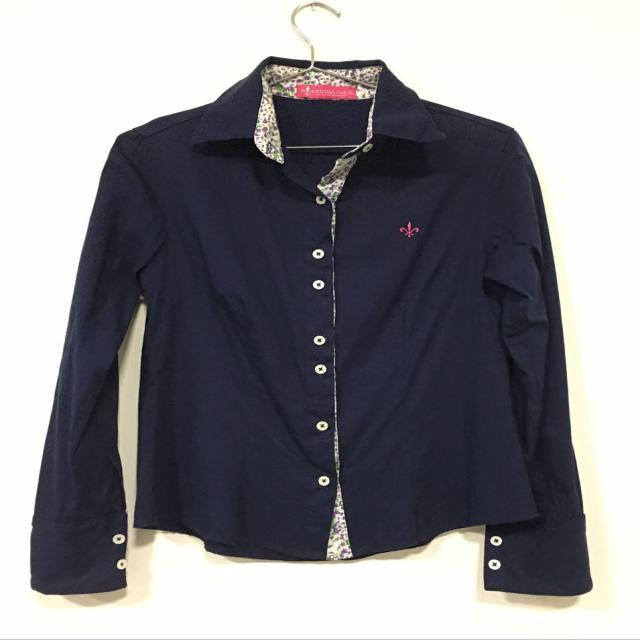long sleeve shirt: (24, 51, 597, 604)
